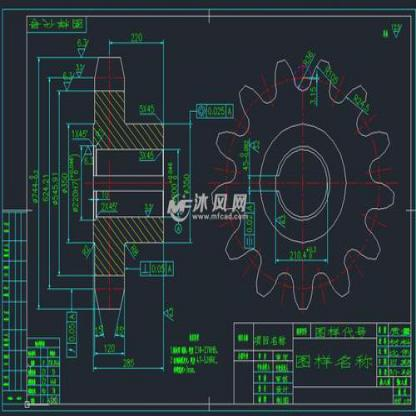FOD: (207, 52, 399, 316)
